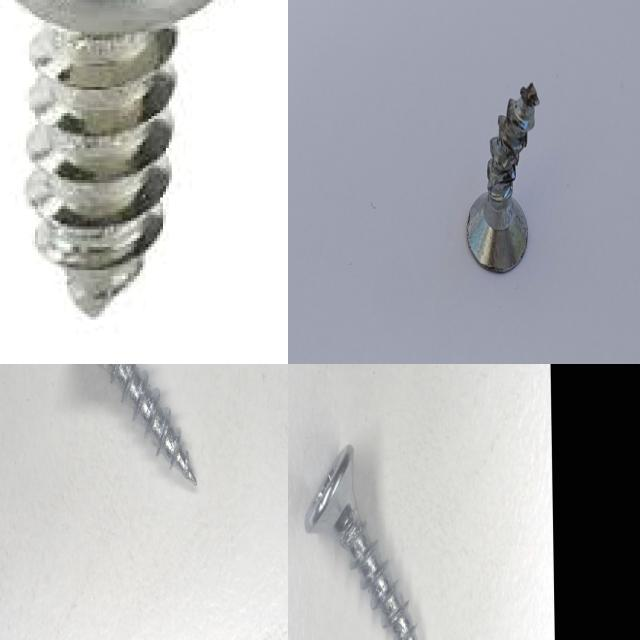Screw: (19, 0, 208, 320), (305, 443, 418, 640), (468, 82, 540, 272), (99, 364, 197, 484)
